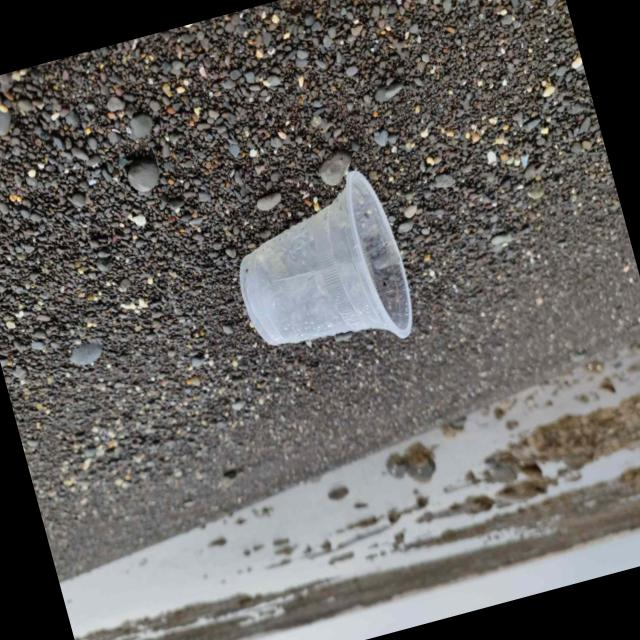hop_nhua: (239, 170, 413, 345)
